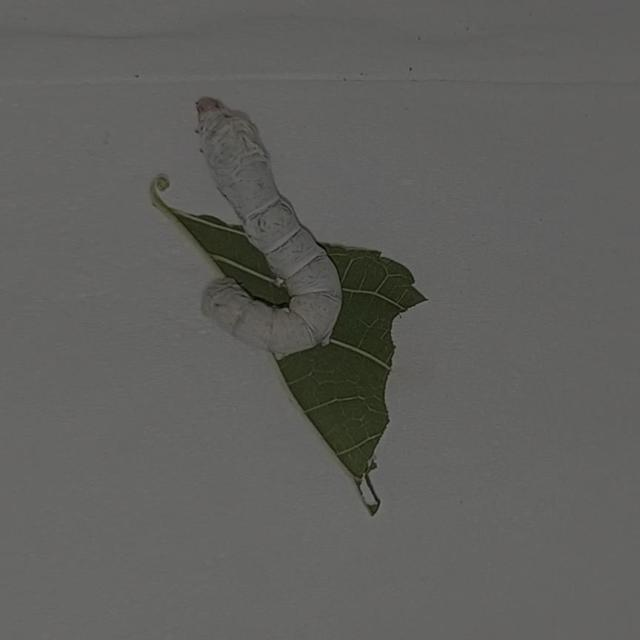Healthy: (134, 70, 370, 424)
